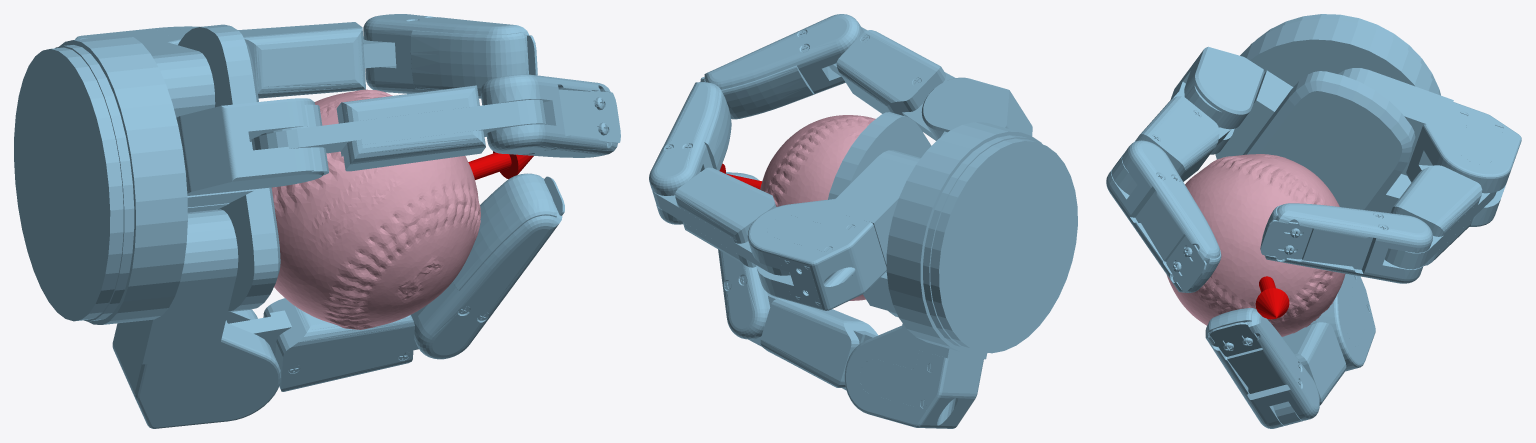
The picture shows the model from 3 angles, left to right: view 1: azimuth 30°, elevation 25°; view 2: azimuth 150°, elevation 25°; view 3: azimuth 270°, elevation 25°; orthographic projection. The views are drawn at different scales.
Parts seen in each view (by area): view 1: world, baseball.stl; view 2: world, baseball.stl; view 3: world, baseball.stl.
Boxes of the visible parts, left/top/right/bottom form: world: left=14, top=14, right=620, bottom=428; baseball.stl: left=271, top=89, right=480, bottom=329; world: left=649, top=14, right=1077, bottom=428; baseball.stl: left=760, top=115, right=875, bottom=300; world: left=1106, top=14, right=1521, bottom=428; baseball.stl: left=1167, top=154, right=1345, bottom=336.
Bounding box in the file's own units: 0.1761 × 0.133 × 0.1609.
